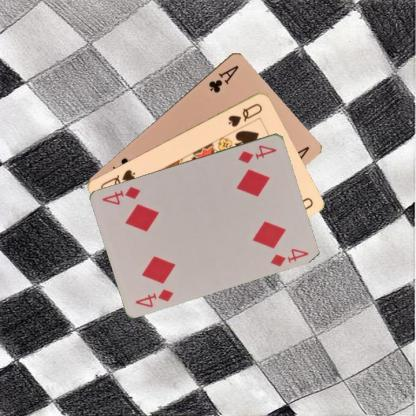4d: (236, 142, 278, 165), (133, 286, 175, 309)
Ac: (206, 62, 240, 94)
Qs: (225, 100, 264, 128)
